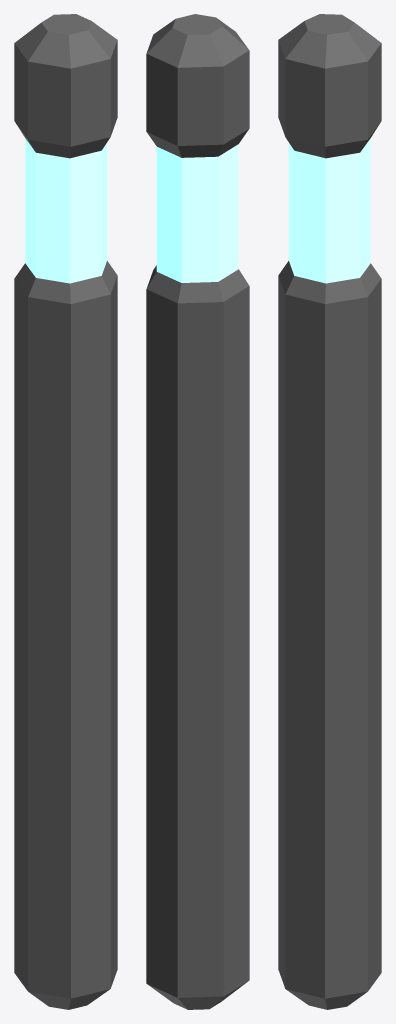
File: Baton.fbx
The picture shows the model from 3 angles, left to right: view 1: azimuth 30°, elevation 25°; view 2: azimuth 210°, elevation 25°; view 3: azimuth 330°, elevation 25°; orthographic projection.
Parts seen in each view (by area): view 1: Cylinder; view 2: Cylinder; view 3: Cylinder.
Part boxes in pixels (x1,y1,x2,y2): Cylinder: (14, 14, 117, 1009); Cylinder: (146, 14, 249, 1009); Cylinder: (278, 14, 381, 1009).
Size of the model in its own units: 195 by 2031 by 190.
